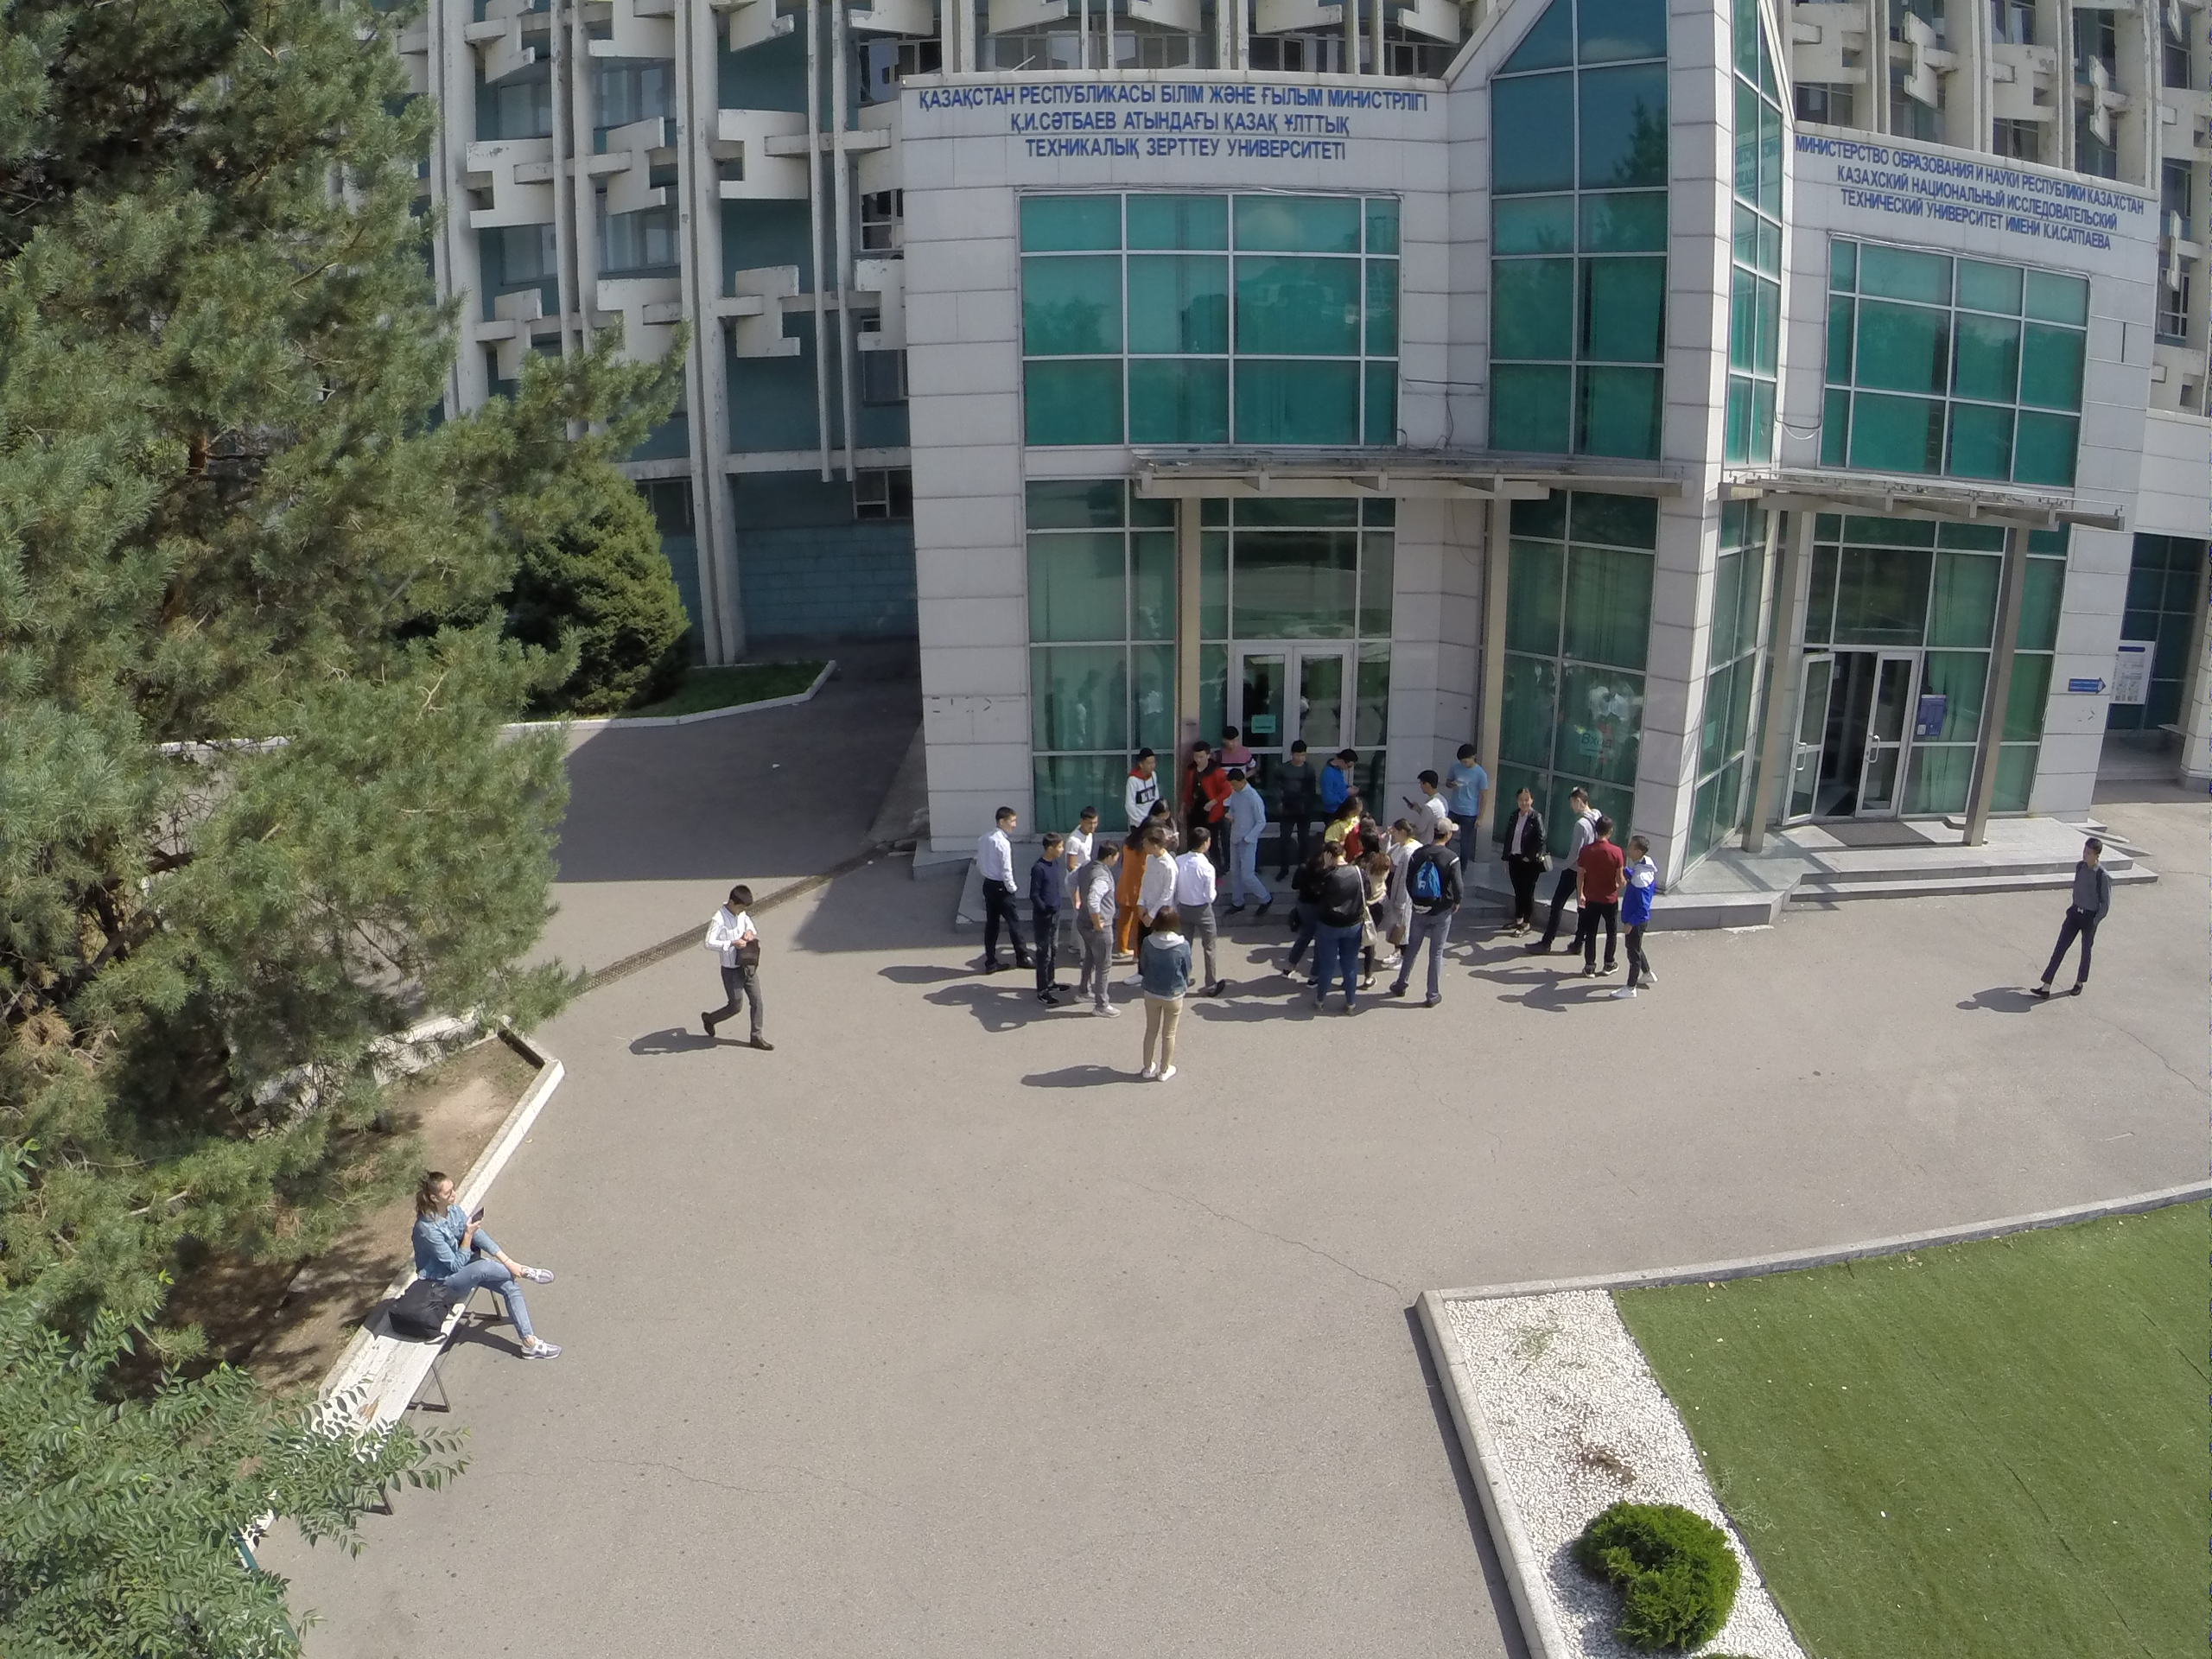person: (404, 1165, 556, 1370), (687, 874, 788, 1062), (2027, 832, 2113, 1013), (1395, 817, 1470, 1015), (970, 796, 1036, 976), (1070, 843, 1134, 1020), (1306, 841, 1367, 1027), (1130, 896, 1187, 1091), (1540, 781, 1596, 962), (1021, 827, 1073, 1020), (1575, 808, 1626, 988), (1179, 828, 1227, 1023), (1222, 763, 1276, 927), (1500, 780, 1548, 942), (1269, 730, 1319, 880), (1618, 832, 1662, 1003), (1382, 808, 1423, 952), (1449, 747, 1486, 887), (1136, 827, 1177, 923), (1176, 734, 1217, 827), (1122, 737, 1160, 824), (1061, 800, 1103, 859), (1216, 721, 1252, 774), (1324, 743, 1353, 804)
